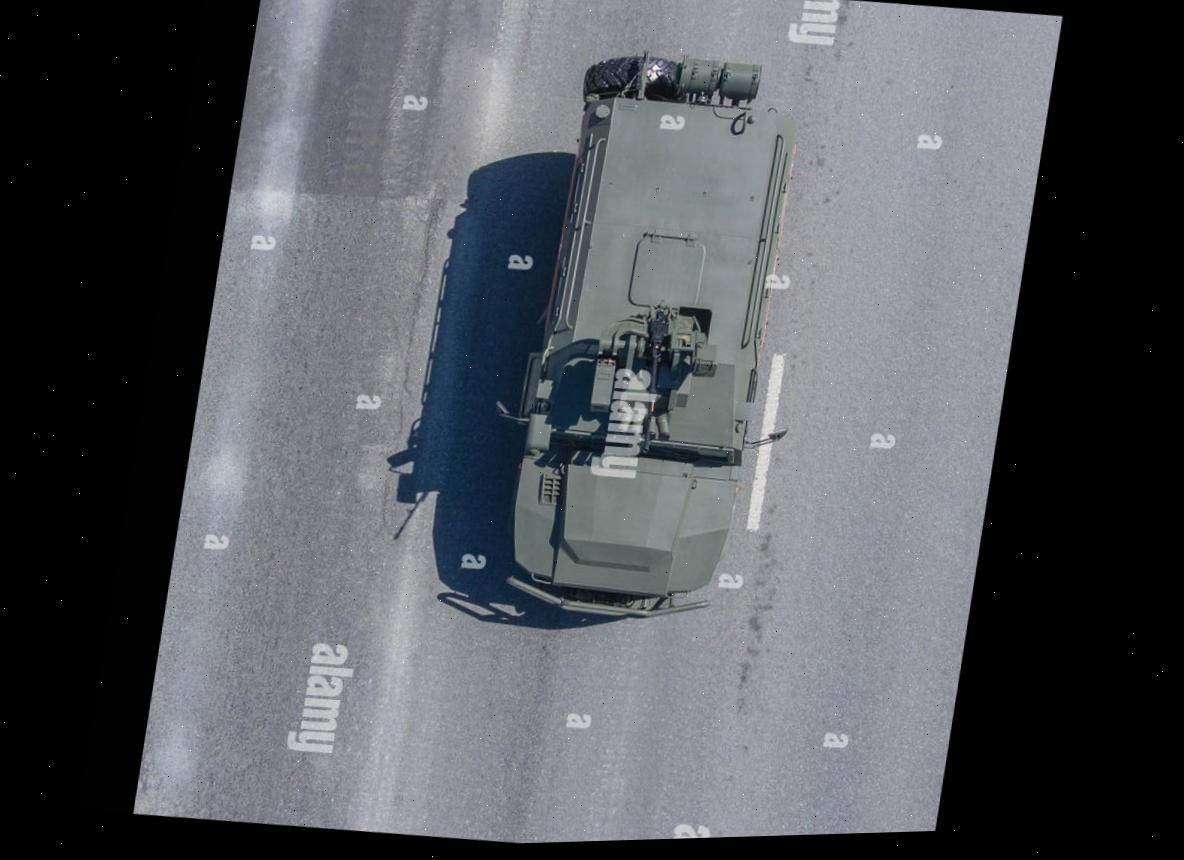armored_car: (455, 27, 824, 641)
